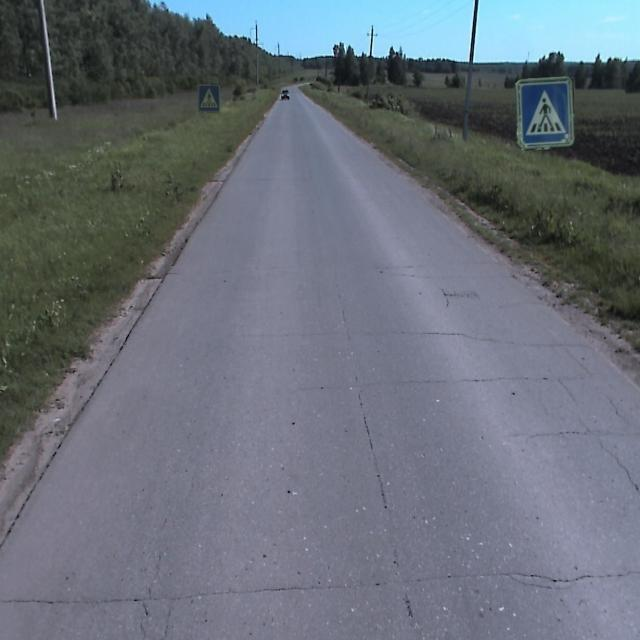road: (0, 87, 639, 639), (281, 90, 289, 99)
